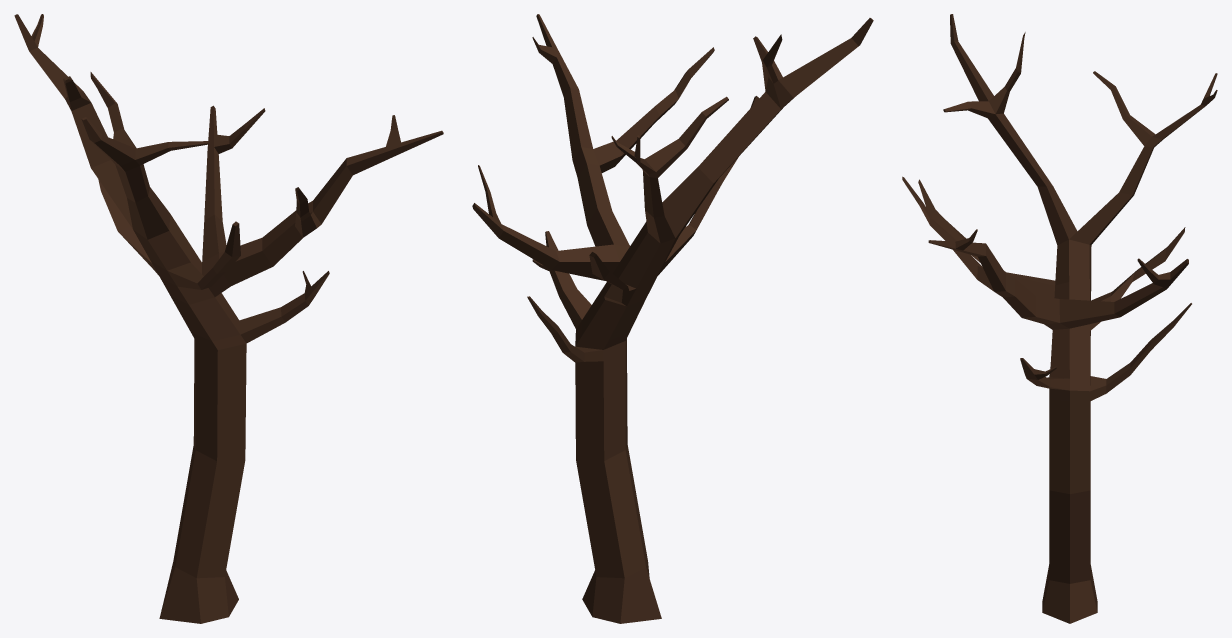
Rendered from DeadTree.fbx.
3 renders of one model, left to right at view 1: azimuth 30°, elevation 25°; view 2: azimuth 150°, elevation 25°; view 3: azimuth 270°, elevation 25°, orthographic. The views are drawn at different scales.
Visible parts, largest first — view 1: Cube; view 2: Cube; view 3: Cube.
Boxes of the visible parts, x1,y1,x2,y2 form: Cube: (14,14,443,623); Cube: (472,14,873,623); Cube: (902,14,1217,623).
Bounding box in the file's own units: 1411 × 2273 × 1254.
